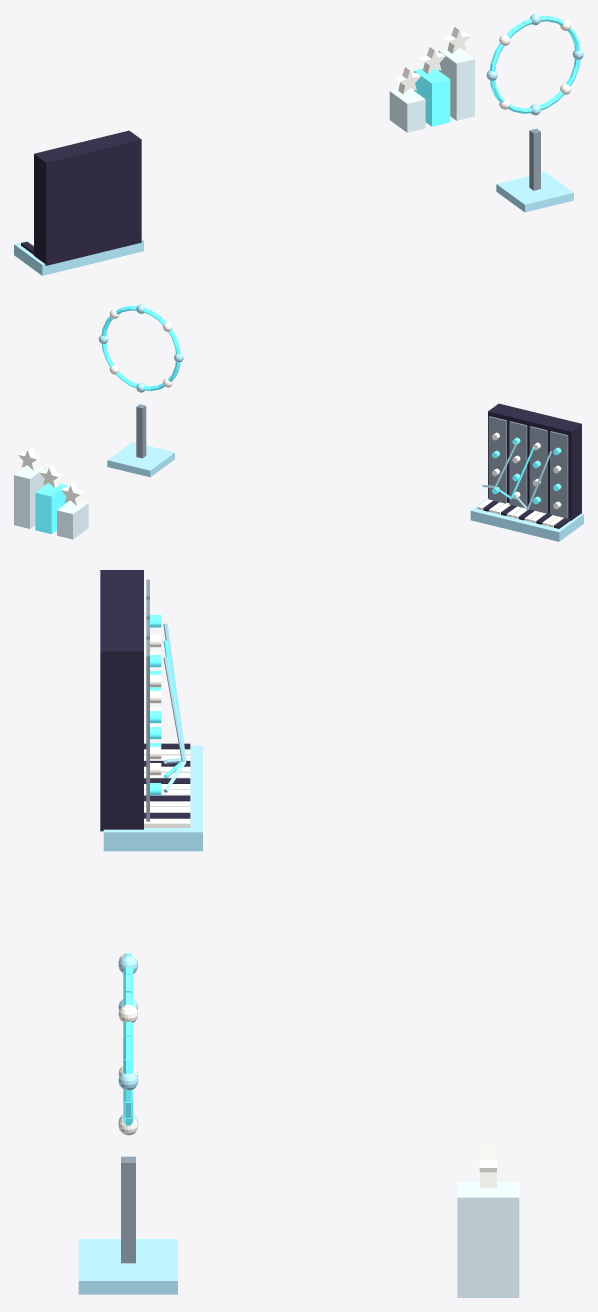
Rendered from studio-props-electronic.glb.
The picture shows the model from 3 angles, top to bottom: view 1: azimuth 30°, elevation 25°; view 2: azimuth 150°, elevation 25°; view 3: azimuth 270°, elevation 25°; orthographic projection. The views are drawn at different scales.
Parts seen in each view (by area): view 1: electronic original studio collection; view 2: electronic original studio collection; view 3: electronic original studio collection.
Boxes of the visible parts, box(x1,y1,x2,y2) form: electronic original studio collection: box(14, 14, 583, 275); electronic original studio collection: box(14, 304, 583, 541); electronic original studio collection: box(78, 570, 519, 1297).
Bounding box in the file's own units: 8.91 × 2.82 × 3.55.
